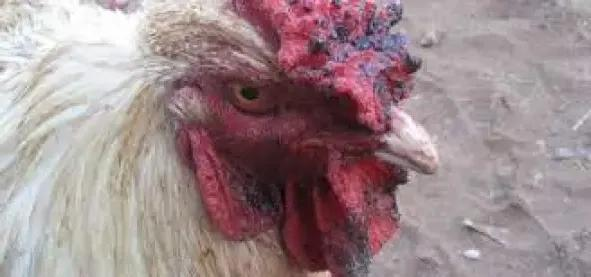AbNormal: (234, 0, 419, 129)
